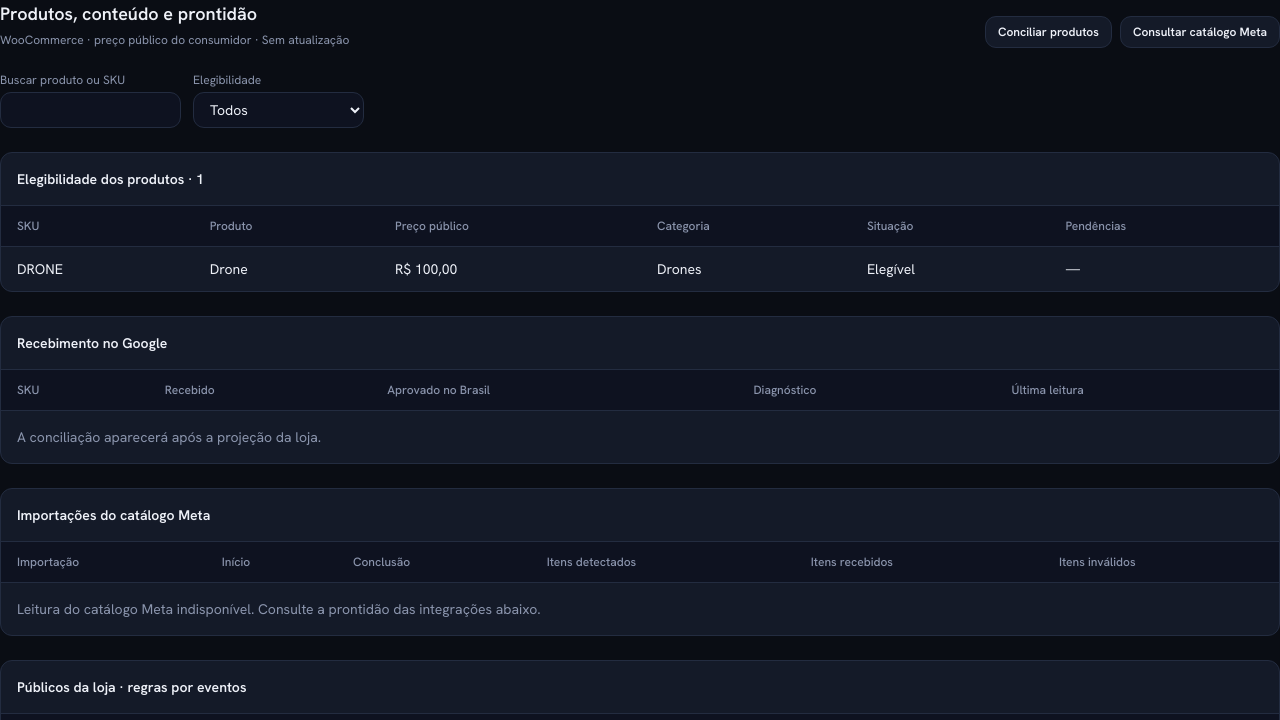
failed reconciliation exposes an actionable error and retains product information
The image size is (1280, 720).
Step 1. Click the button "Conciliar produtos" → {"x": 1048, "y": 32}, box [985, 16, 1112, 48]
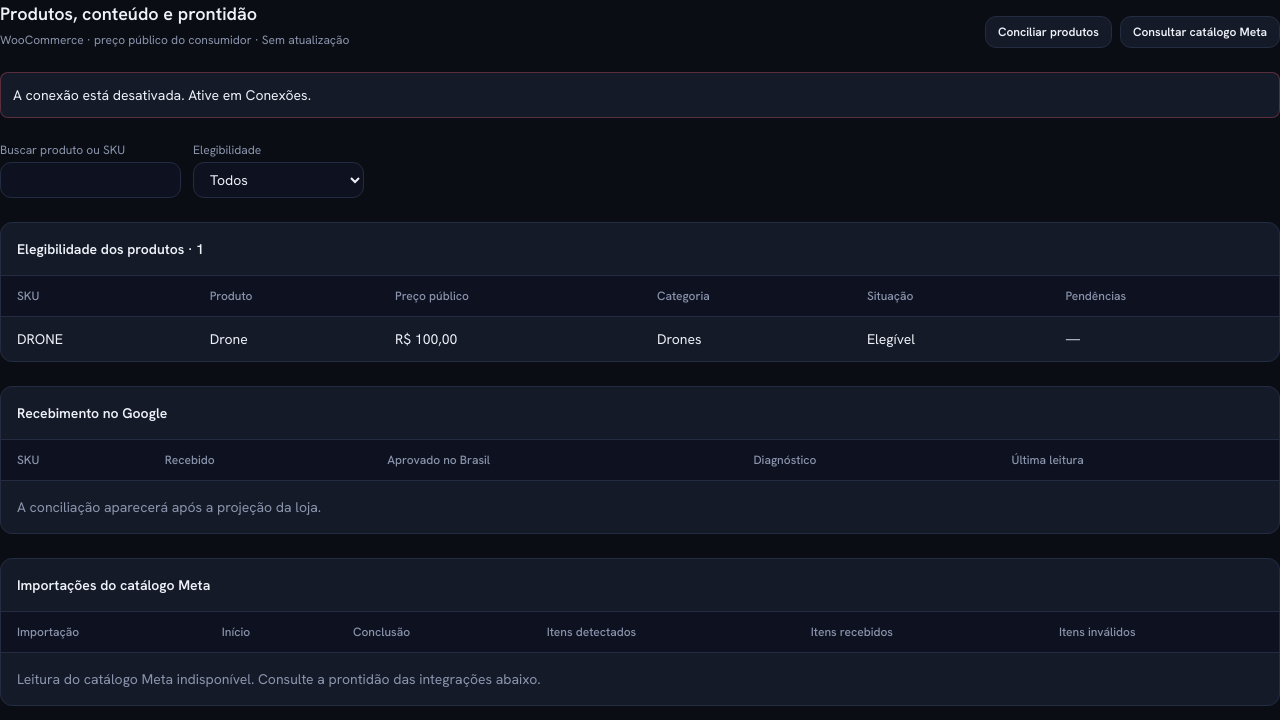
Expected: the text "DRONE" is shown, [1, 316, 194, 361]
Now the message shows "Ative em Conexões", box [13, 86, 311, 104]
